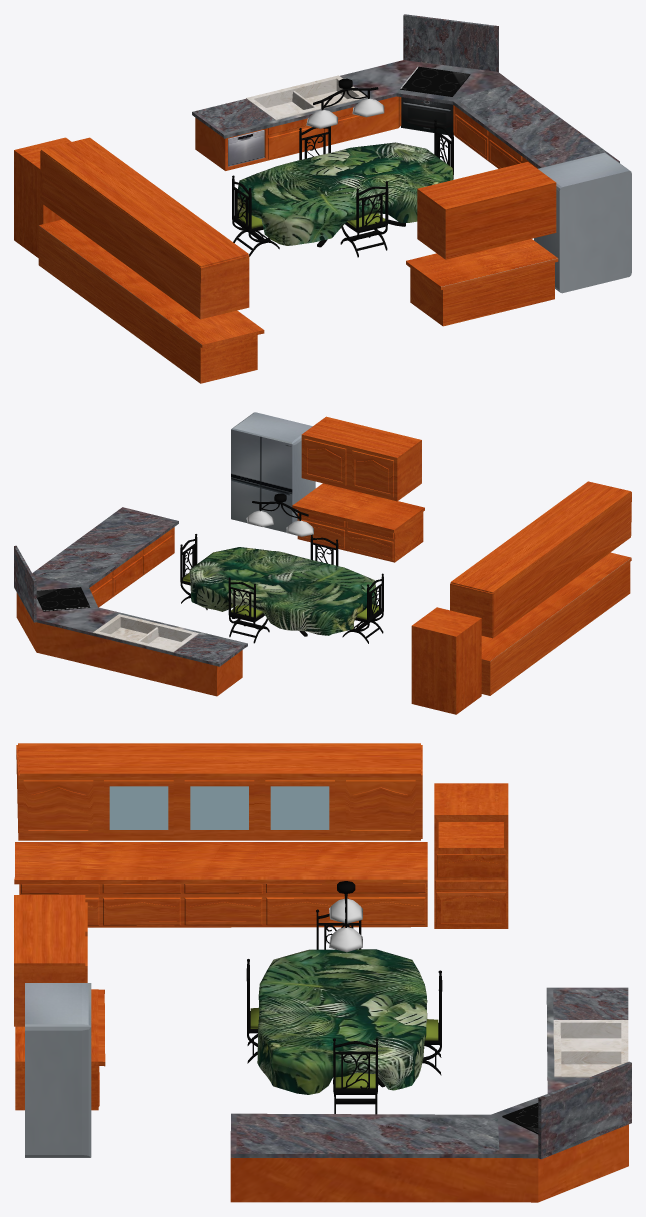
The model's file is mobilier_cuisine.fbx.
3 views of the same model, one above another, from view 1: azimuth 30°, elevation 25°; view 2: azimuth 150°, elevation 25°; view 3: azimuth 270°, elevation 25° (orthographic). The views are drawn at different scales.
Visible parts, largest first — view 1: Cube.032, Cube.040, Cube.033, Cube.037, Cube.041, frigo, Cube.034, Cube.035, Cube.039, Cube.042, lumiere, Cube.045 (+3 smaller); view 2: Cube.032, Cube.040, Cube.037, Cube.033, Cube.041, frigo, Cube.034, Cube.035, Cube.044, lumiere, Cube.045, Cube.043 (+1 smaller); view 3: Cube.032, Cube.040, Cube.033, Cube.037, frigo, Cube.035, Cube.041, Cube.034, Cube.043, lumiere, Cube.044.
Part boxes in pixels (<box>): Cube.032: <box>192,14,619,170</box>; Cube.040: <box>40,137,249,319</box>; Cube.033: <box>38,219,264,383</box>; Cube.037: <box>237,142,453,245</box>; Cube.041: <box>417,162,556,259</box>; frigo: <box>534,152,631,293</box>; Cube.034: <box>406,239,558,326</box>; Cube.035: <box>14,137,71,257</box>; Cube.039: <box>401,97,453,135</box>; Cube.042: <box>340,181,388,257</box>; lumiere: <box>306,78,384,128</box>; Cube.045: <box>232,175,279,256</box>; Cube.032: <box>14,507,247,696</box>; Cube.040: <box>450,481,631,638</box>; Cube.037: <box>189,547,376,635</box>; Cube.033: <box>481,552,631,695</box>; Cube.041: <box>301,416,421,501</box>; frigo: <box>231,412,315,532</box>; Cube.034: <box>292,483,424,562</box>; Cube.035: <box>411,607,481,714</box>; Cube.044: <box>228,577,269,643</box>; lumiere: <box>246,493,313,536</box>; Cube.045: <box>342,573,383,643</box>; Cube.043: <box>180,534,207,609</box>; Cube.032: <box>230,987,631,1202</box>; Cube.040: <box>16,743,422,840</box>; Cube.033: <box>14,842,427,927</box>; Cube.037: <box>257,949,427,1094</box>; frigo: <box>25,983,91,1157</box>; Cube.035: <box>434,783,508,928</box>; Cube.041: <box>14,895,87,1026</box>; Cube.034: <box>15,989,105,1110</box>; Cube.043: <box>333,1038,378,1114</box>; lumiere: <box>329,881,362,952</box>; Cube.044: <box>422,970,442,1075</box>.
Bounding box in the file's own units: 2786 × 740 × 2335.
